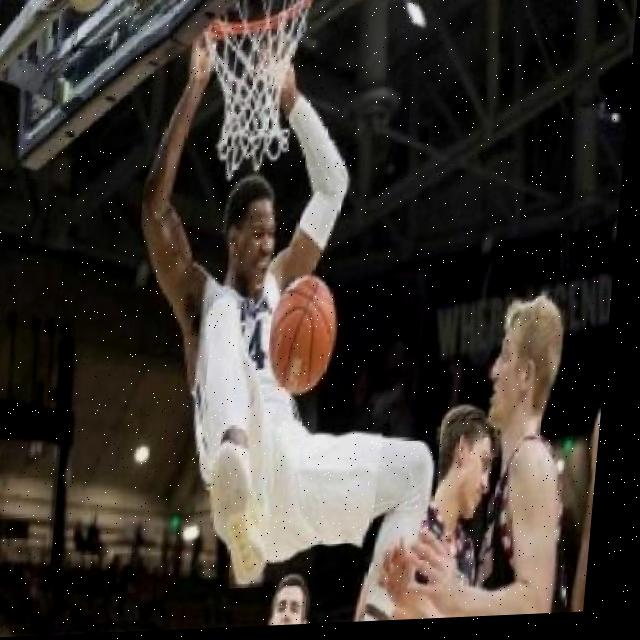basketball: (265, 273, 345, 399)
hoop: (188, 0, 321, 182)
